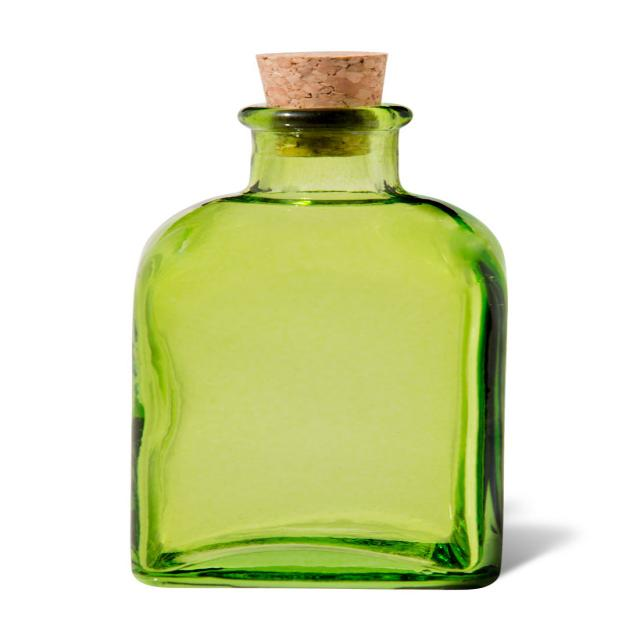Bottle: (121, 44, 514, 591)
